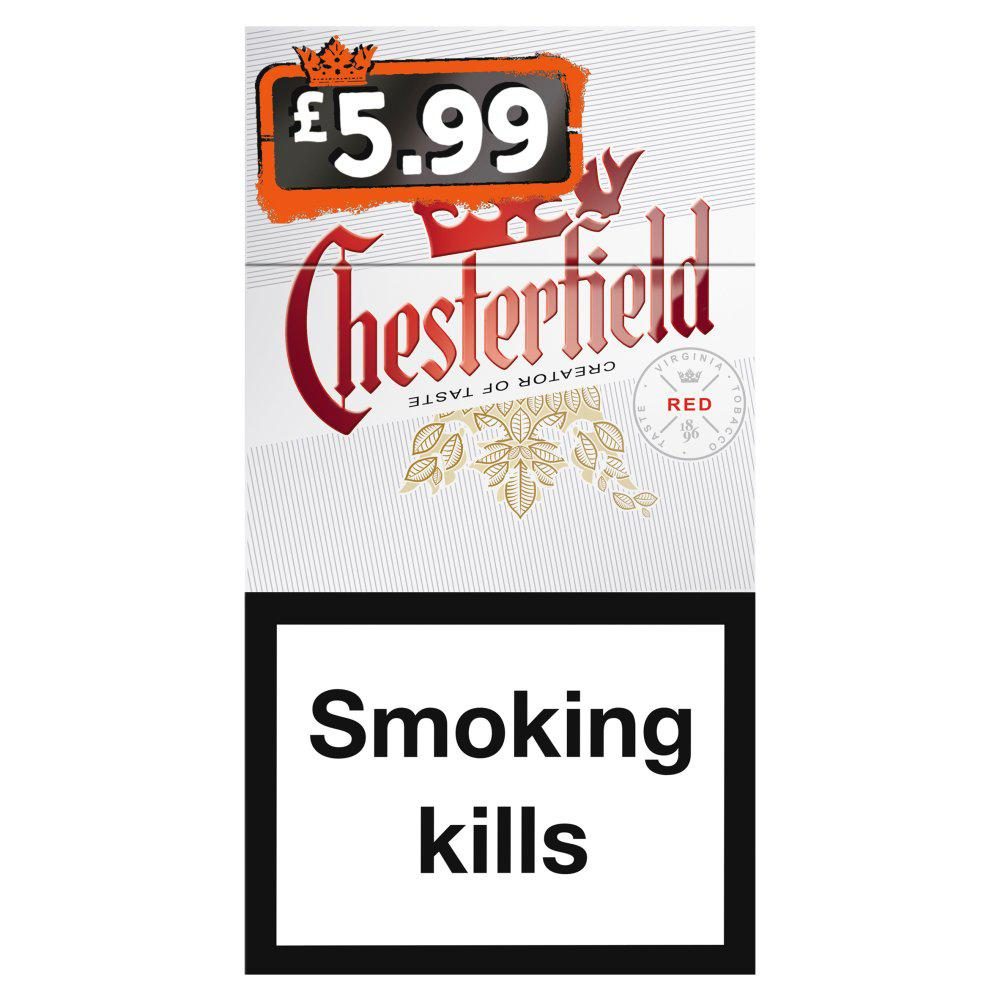chesterfield_red: (251, 26, 751, 967)
